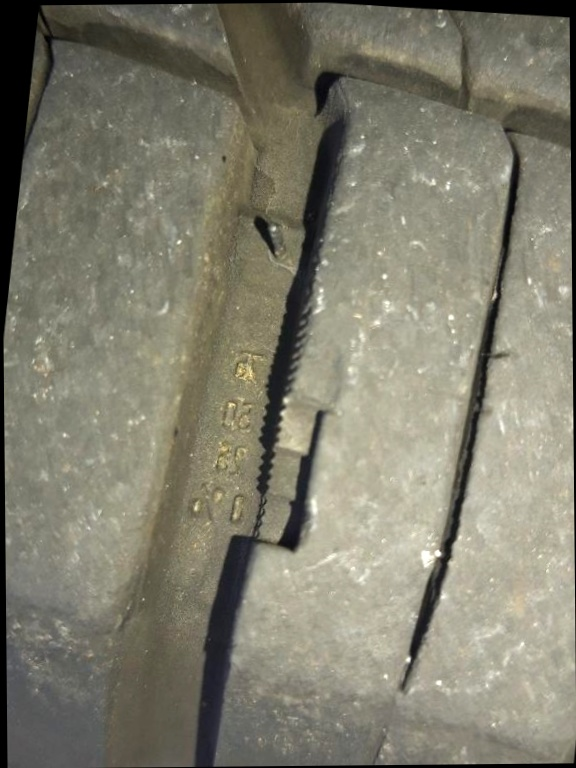temoin:80: (234, 292, 360, 577)
